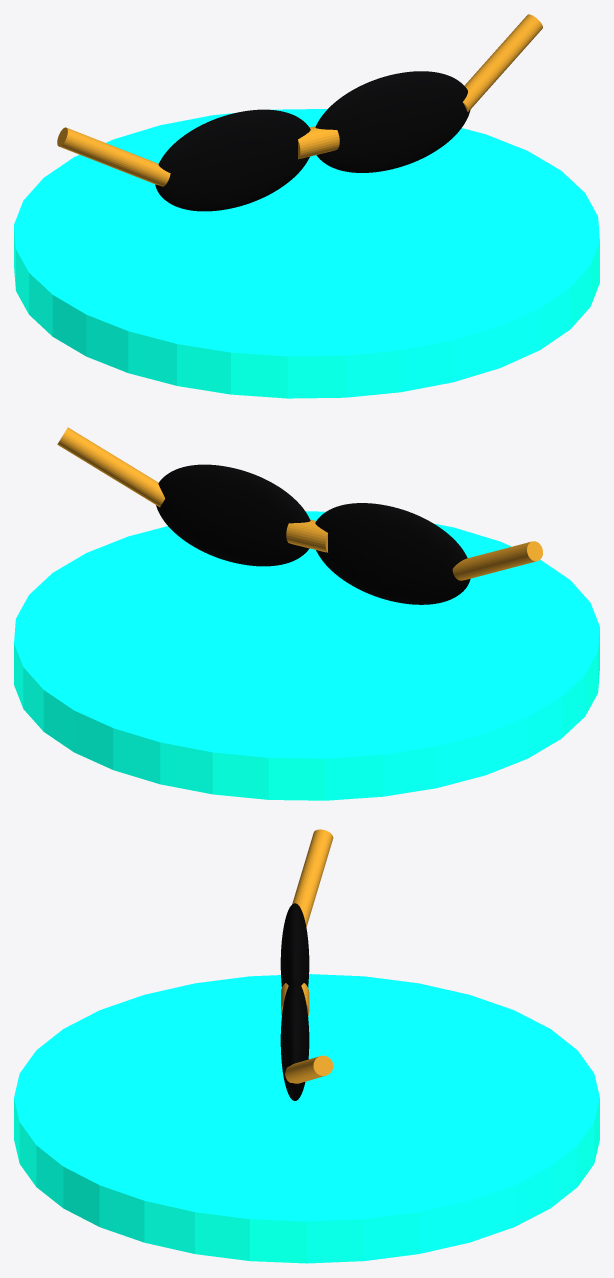
The model's file is fashion_black_sunglasses.dae.
3 renders of one model, top to bottom at view 1: azimuth 30°, elevation 25°; view 2: azimuth 150°, elevation 25°; view 3: azimuth 270°, elevation 25°, orthographic.
Parts seen in each view (by area): view 1: 06_20_Popular_Fashion_Black_Sunglasses_ROOT_base, 06_20_Popular_Fashion_Black_Sunglasses_part_01, 06_20_Popular_Fashion_Black_Sunglasses_part_02, 06_20_Popular_Fashion_Black_Sunglasses_part_04, 06_20_Popular_Fashion_Black_Sunglasses_part_05, 06_20_Popular_Fashion_Black_Sunglasses_part_03; view 2: 06_20_Popular_Fashion_Black_Sunglasses_ROOT_base, 06_20_Popular_Fashion_Black_Sunglasses_part_01, 06_20_Popular_Fashion_Black_Sunglasses_part_02, 06_20_Popular_Fashion_Black_Sunglasses_part_05, 06_20_Popular_Fashion_Black_Sunglasses_part_04, 06_20_Popular_Fashion_Black_Sunglasses_part_03; view 3: 06_20_Popular_Fashion_Black_Sunglasses_ROOT_base, 06_20_Popular_Fashion_Black_Sunglasses_part_02, 06_20_Popular_Fashion_Black_Sunglasses_part_01, 06_20_Popular_Fashion_Black_Sunglasses_part_04, 06_20_Popular_Fashion_Black_Sunglasses_part_05.
Boxes of the visible parts, x1,y1,x2,y2 form: 06_20_Popular_Fashion_Black_Sunglasses_ROOT_base: (14,109,599,398); 06_20_Popular_Fashion_Black_Sunglasses_part_01: (155,109,310,211); 06_20_Popular_Fashion_Black_Sunglasses_part_02: (315,71,470,172); 06_20_Popular_Fashion_Black_Sunglasses_part_04: (57,127,170,186); 06_20_Popular_Fashion_Black_Sunglasses_part_05: (463,14,542,111); 06_20_Popular_Fashion_Black_Sunglasses_part_03: (298,126,339,159); 06_20_Popular_Fashion_Black_Sunglasses_ROOT_base: (14,511,599,800); 06_20_Popular_Fashion_Black_Sunglasses_part_01: (315,503,470,604); 06_20_Popular_Fashion_Black_Sunglasses_part_02: (156,464,310,566); 06_20_Popular_Fashion_Black_Sunglasses_part_05: (57,427,164,506); 06_20_Popular_Fashion_Black_Sunglasses_part_04: (452,541,542,580); 06_20_Popular_Fashion_Black_Sunglasses_part_03: (286,519,327,552); 06_20_Popular_Fashion_Black_Sunglasses_ROOT_base: (14,974,599,1263); 06_20_Popular_Fashion_Black_Sunglasses_part_02: (280,980,309,1100); 06_20_Popular_Fashion_Black_Sunglasses_part_01: (280,903,309,987); 06_20_Popular_Fashion_Black_Sunglasses_part_04: (292,829,333,927); 06_20_Popular_Fashion_Black_Sunglasses_part_05: (285,1055,333,1083).
Bounding box in the file's own units: 0.76 × 0.282 × 0.76.
